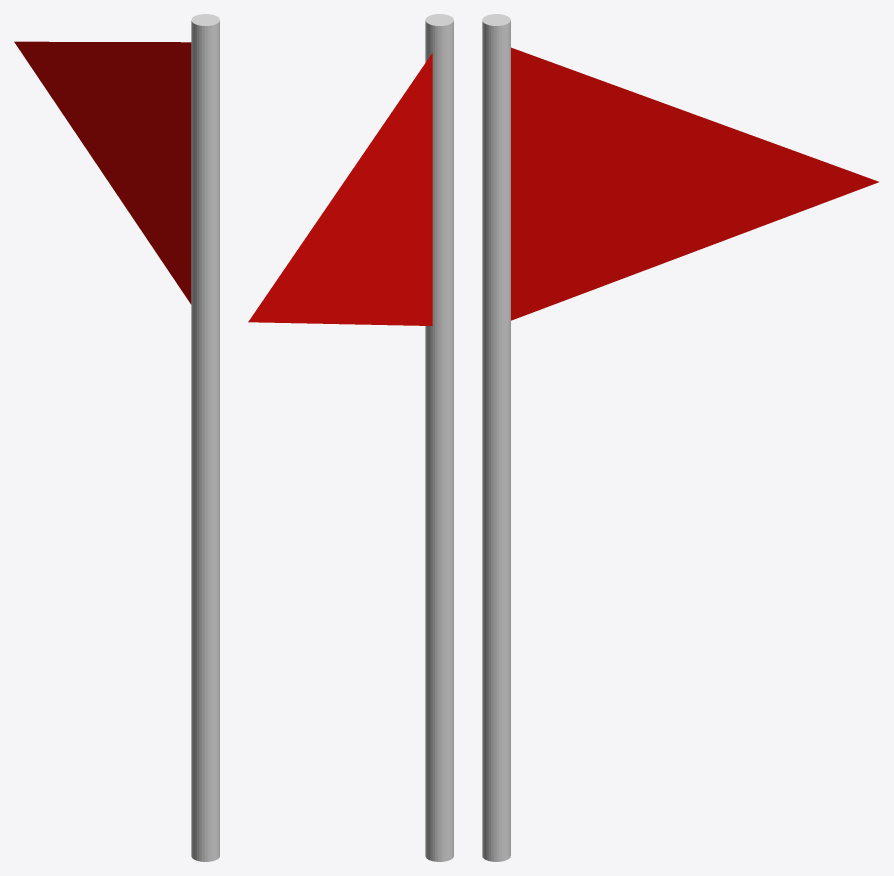
The picture shows the model from 3 angles, left to right: view 1: azimuth 30°, elevation 25°; view 2: azimuth 150°, elevation 25°; view 3: azimuth 270°, elevation 25°; orthographic projection.
Visible parts, largest first — view 1: Cylinder, Plane; view 2: Plane, Cylinder; view 3: Plane, Cylinder.
Boxes of the visible parts, bbox=[...] form: Cylinder: bbox=[191, 14, 219, 861]; Plane: bbox=[14, 41, 191, 304]; Plane: bbox=[248, 53, 432, 325]; Cylinder: bbox=[425, 14, 453, 861]; Plane: bbox=[511, 47, 878, 320]; Cylinder: bbox=[482, 14, 510, 861].
Bounding box in the file's own units: 18 × 580 × 250.
